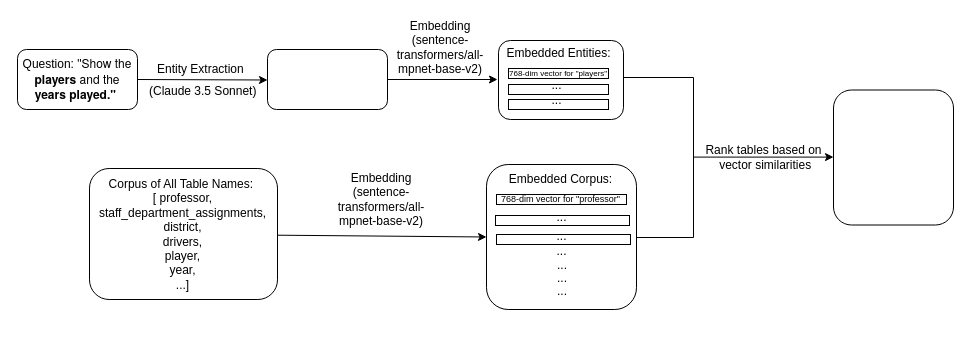
Image size: 971x344. Some labels were removed from this diagram. Each missing label, with the centre of its shape:
Extracted Entities: ["players", "years", "played"]: point 327,79
Ranked Tables: [player, year, ..., ..., ..., ..., ..., ...]: point 893,157
